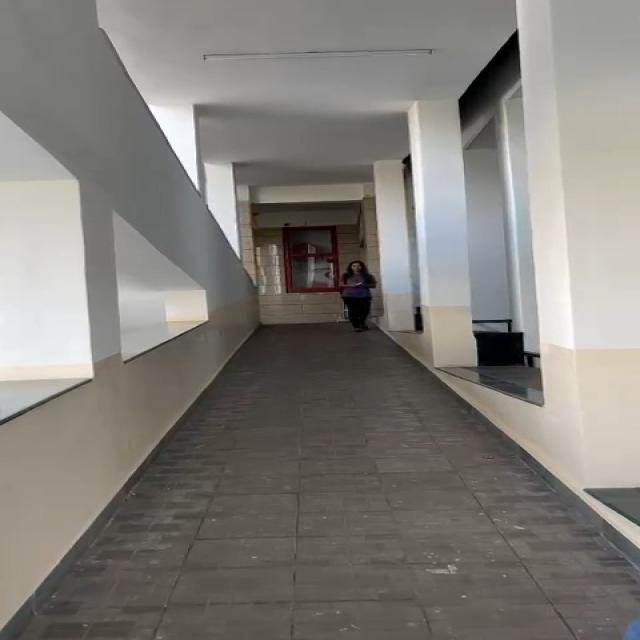floor: (248, 332, 514, 640)
moving_object: (320, 246, 390, 334)
wall: (0, 0, 268, 506), (286, 11, 575, 228)
